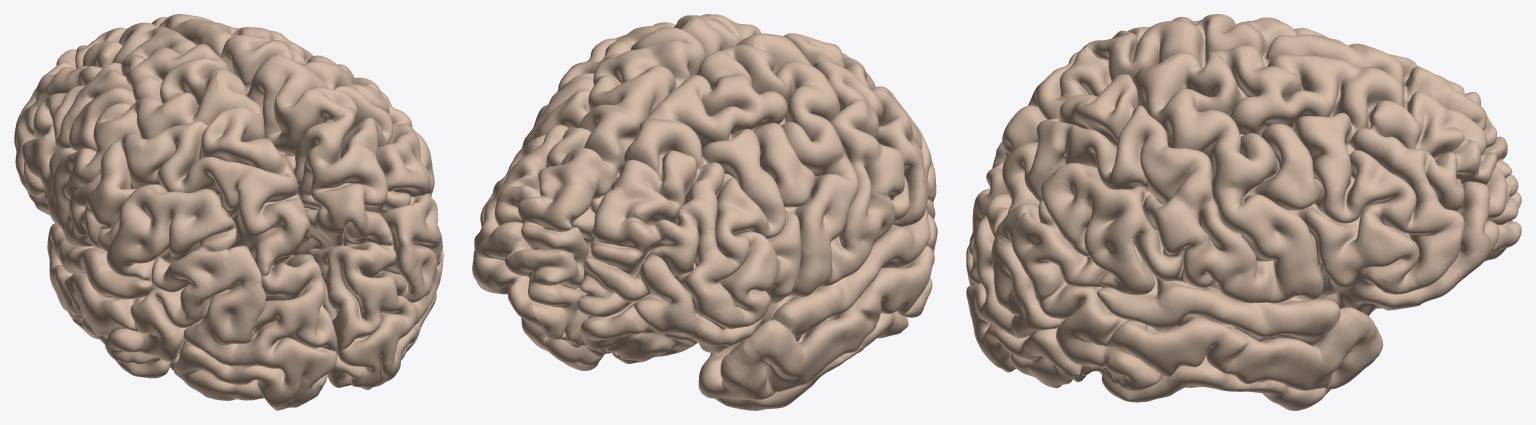
The model's file is brain-before-cranial.glb.
The picture shows the model from 3 angles, left to right: view 1: azimuth 30°, elevation 25°; view 2: azimuth 150°, elevation 25°; view 3: azimuth 270°, elevation 25°; orthographic projection. The views are drawn at different scales.
Parts seen in each view (by area): view 1: Occipital Lobe_Material.047_0, Occipital Lobe_Material.047_0__mirrored, Parietal Lobe_Material.042_0, Parietal Lobe2_Material.002_0, Pre Central_Material.048_0, Post Central_Material.049_0, Superior Frontal_Material.045_0, Supra Marginal_Material_0, Middle Frontal Gyrus_Material.043_0, Parietal Lobe_Material.042_0__mirrored, Middle Temporal_Material.040_0, Superior Frontal_Material.045_0__mirrored (+36 smaller); view 2: Superior Frontal_Material.045_0, Middle Frontal Gyrus_Material.043_0, Superior Frontal_Material.045_0__mirrored, Pre Central_Material.048_0, Middle Temporal_Material.040_0, Superior Temporal_Material.041_0, Middle Frontal Gyrus_Material.043_0__mirrored, Post Central_Material.049_0, Middle Frontal Gyrus3_Material.043_0, Lateral Orbital Frontal Cortex_Material.050_0, Supra Marginal_Material_0, Inferior Frontal Gyrus3_Material.044_0 (+26 smaller); view 3: Middle Frontal Gyrus_Material.043_0__mirrored, Superior Frontal_Material.045_0__mirrored, Pre Central_Material.048_0__mirrored, Middle Temporal_Material.040_0__mirrored, Post Central_Material.049_0__mirrored, Superior Temporal_Material.041_0__mirrored, Superior Frontal_Material.045_0, Supra Marginal_Material_0__mirrored, Parietal Lobe2_Material.002_0__mirrored, Occipital Lobe_Material.047_0__mirrored, Parietal Lobe_Material.042_0__mirrored, Inferior Temporal2_Material.046_0__mirrored (+27 smaller).
Boxes of the visible parts, left/top/right/bottom form: Occipital Lobe_Material.047_0: left=174, top=262, right=337, bottom=410; Occipital Lobe_Material.047_0__mirrored: left=328, top=242, right=436, bottom=389; Parietal Lobe_Material.042_0: left=178, top=157, right=306, bottom=276; Parietal Lobe2_Material.002_0: left=151, top=207, right=238, bottom=327; Pre Central_Material.048_0: left=47, top=69, right=223, bottom=235; Post Central_Material.049_0: left=64, top=107, right=248, bottom=249; Superior Frontal_Material.045_0: left=56, top=22, right=229, bottom=102; Supra Marginal_Material_0: left=89, top=183, right=175, bottom=288; Middle Frontal Gyrus_Material.043_0: left=14, top=62, right=132, bottom=157; Parietal Lobe_Material.042_0__mirrored: left=336, top=117, right=393, bottom=247; Middle Temporal_Material.040_0: left=49, top=259, right=179, bottom=337; Superior Frontal_Material.045_0__mirrored: left=151, top=14, right=304, bottom=112; Superior Frontal_Material.045_0: left=591, top=35, right=787, bottom=275; Middle Frontal Gyrus_Material.043_0: left=608, top=128, right=785, bottom=325; Superior Frontal_Material.045_0__mirrored: left=517, top=20, right=719, bottom=252; Pre Central_Material.048_0: left=758, top=35, right=858, bottom=303; Middle Temporal_Material.040_0: left=720, top=213, right=937, bottom=400; Superior Temporal_Material.041_0: left=725, top=209, right=930, bottom=373; Middle Frontal Gyrus_Material.043_0__mirrored: left=472, top=89, right=590, bottom=288; Post Central_Material.049_0: left=792, top=34, right=895, bottom=274; Middle Frontal Gyrus3_Material.043_0: left=753, top=118, right=819, bottom=207; Lateral Orbital Frontal Cortex_Material.050_0: left=584, top=302, right=697, bottom=361; Supra Marginal_Material_0: left=875, top=104, right=927, bottom=226; Inferior Frontal Gyrus3_Material.044_0: left=719, top=244, right=780, bottom=309; Middle Frontal Gyrus_Material.043_0__mirrored: left=1293, top=112, right=1507, bottom=265; Superior Frontal_Material.045_0__mirrored: left=1184, top=45, right=1496, bottom=184; Pre Central_Material.048_0__mirrored: left=1142, top=53, right=1323, bottom=303; Middle Temporal_Material.040_0__mirrored: left=1057, top=287, right=1383, bottom=390; Post Central_Material.049_0__mirrored: left=1097, top=77, right=1259, bottom=303; Superior Temporal_Material.041_0__mirrored: left=1097, top=271, right=1381, bottom=355; Superior Frontal_Material.045_0: left=1181, top=17, right=1496, bottom=147; Supra Marginal_Material_0__mirrored: left=1084, top=179, right=1190, bottom=295; Parietal Lobe2_Material.002_0__mirrored: left=1011, top=174, right=1107, bottom=318; Occipital Lobe_Material.047_0__mirrored: left=966, top=197, right=1082, bottom=388; Parietal Lobe_Material.042_0__mirrored: left=1002, top=120, right=1116, bottom=213; Inferior Temporal2_Material.046_0__mirrored: left=1056, top=329, right=1288, bottom=397.
Bounding box in the file's own units: 10212 × 8329 × 13000.
